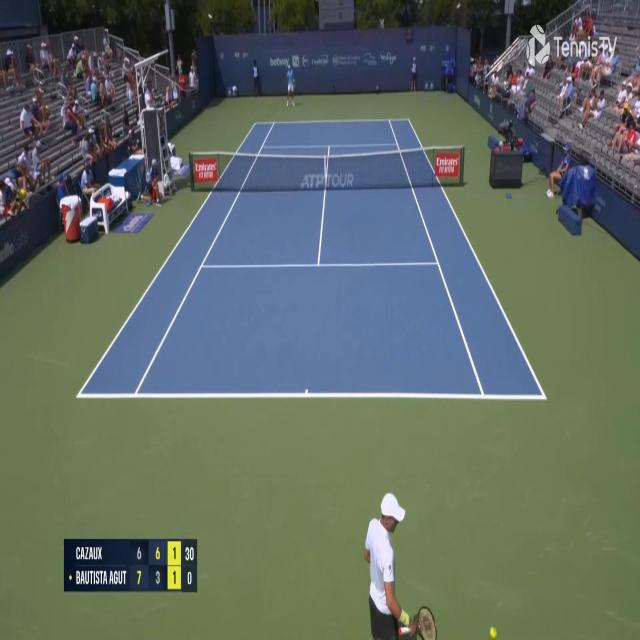tennis-player: (362, 486, 414, 638), (285, 61, 296, 108)
